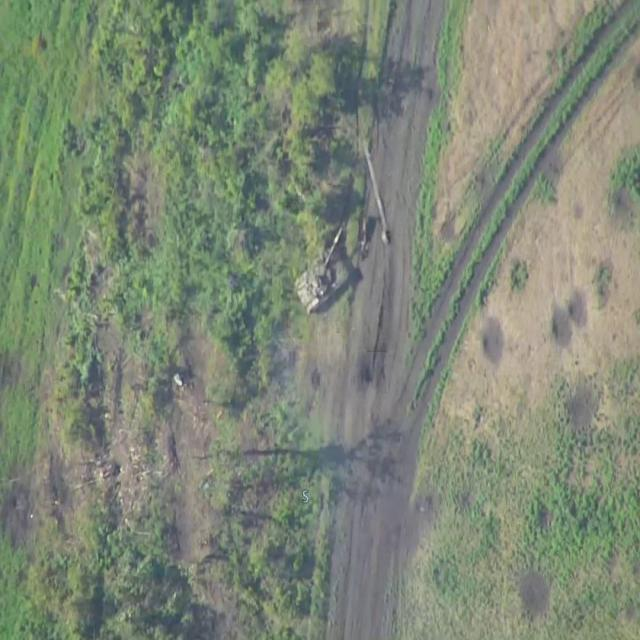Destroyed: (295, 226, 354, 313)
